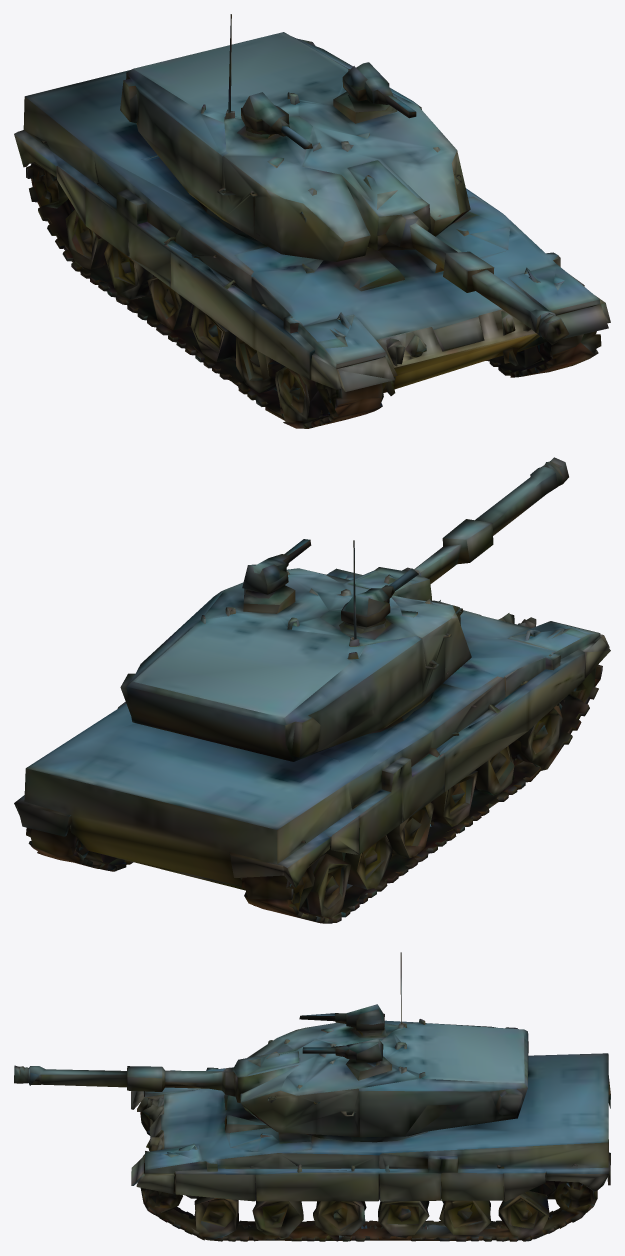
The model's file is tank3_opt.glb.
The picture shows the model from 3 angles, top to bottom: view 1: azimuth 30°, elevation 25°; view 2: azimuth 150°, elevation 25°; view 3: azimuth 270°, elevation 25°; orthographic projection. The views are drawn at different scales.
Parts seen in each view (by area): view 1: node_0; view 2: node_0; view 3: node_0.
Boxes of the visible parts, x1,y1,x2,y2 form: node_0: [14, 14, 610, 428]; node_0: [14, 457, 610, 923]; node_0: [14, 952, 610, 1241].
Size of the model in its own units: 0.4324 by 0.4542 by 1.11.
Materials: 1 (1 with a texture image).
